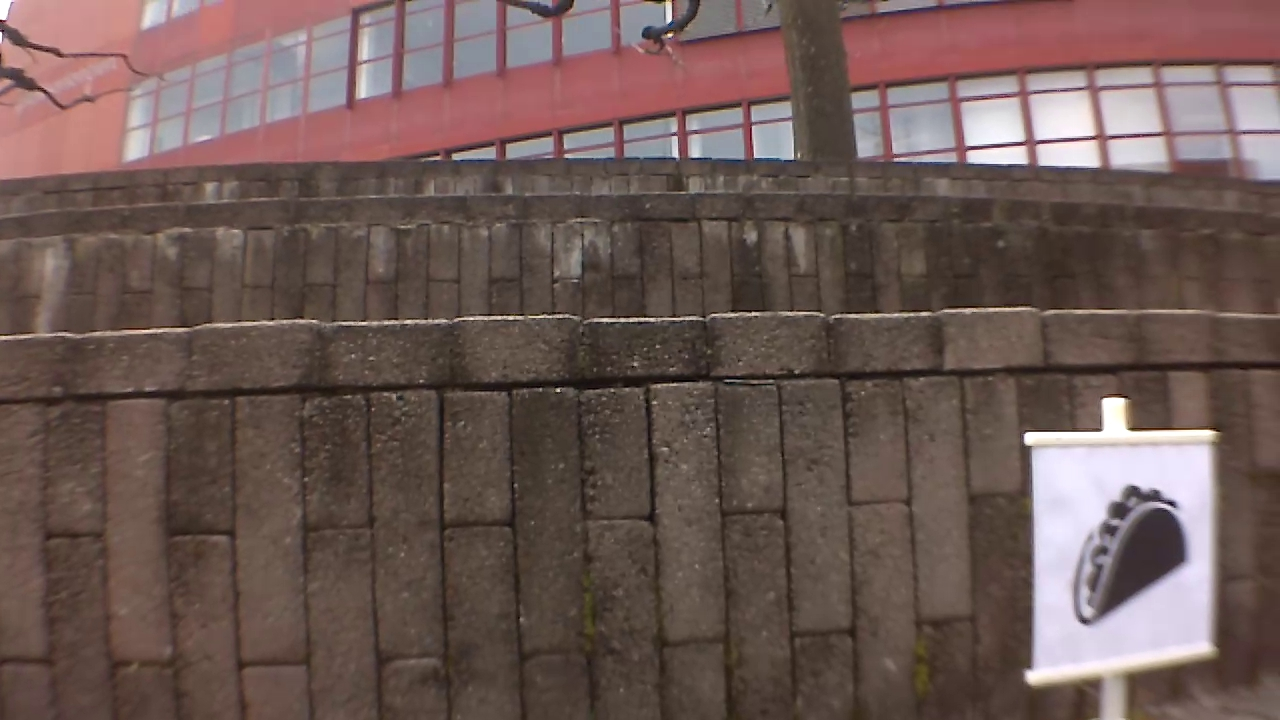taco: (1064, 480, 1194, 631)
